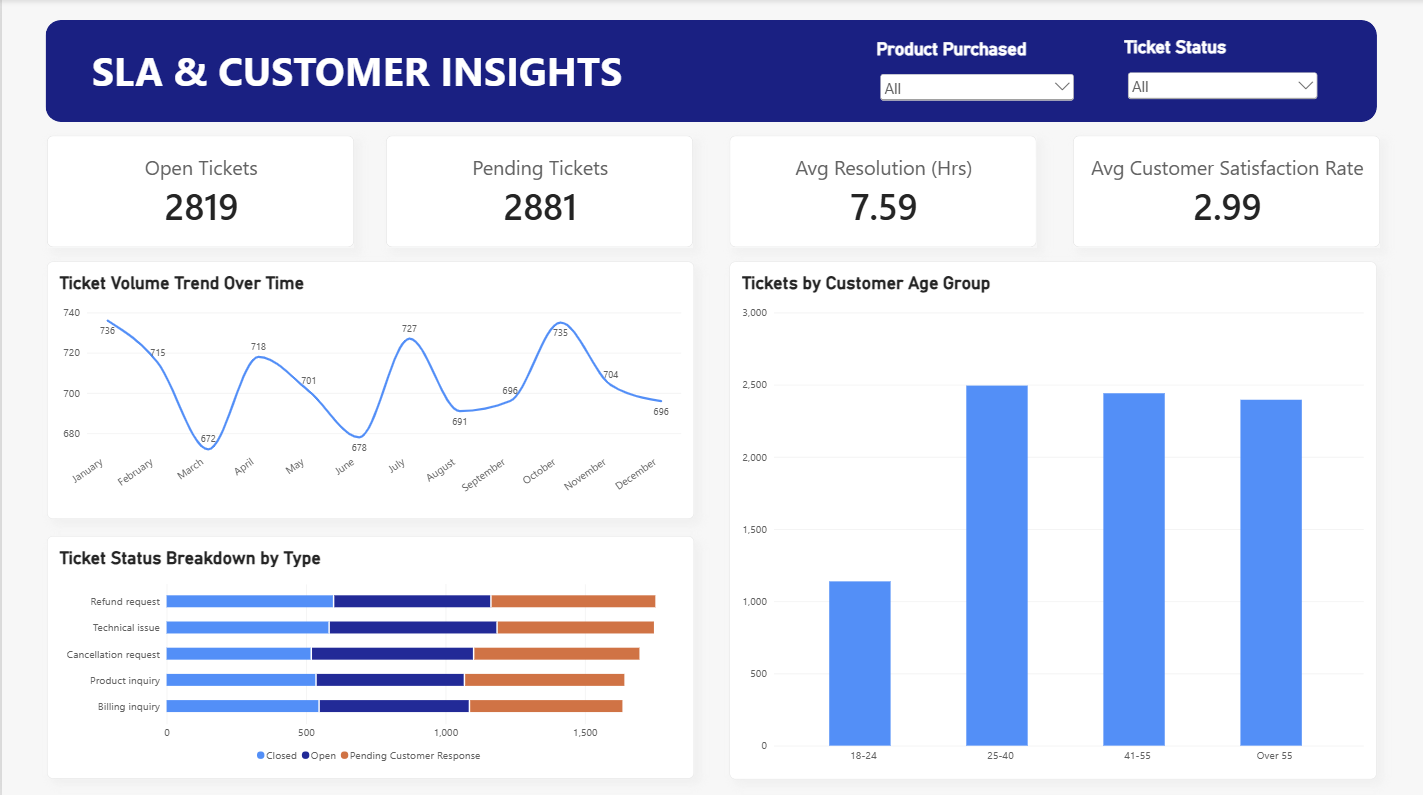

What the dashboard file says about the page in this screenshot:
{"tool":"powerbi","page":{"name":"SLA & Customer Insights","canvas":[1920,1080],"ordinal":1},"visuals":[{"type":"group","id":"g1","title":"Group 2","box":[59,28.8,1799.7,137.8],"z":0},{"type":"shape","box":[59,28.8,1799.7,137.8],"z":0,"group":"g1"},{"type":"cardVisual","fields":{"Data":["customer_support_tickets.Open Tickets"]},"box":[61.2,183.7,415,151.7],"z":0,"group":"g2"},{"type":"group","id":"g2","title":"Group 1","box":[61.2,183.7,1801.9,150.9],"z":1},{"type":"lineChart","title":"Ticket Volume Trend Over Time","fields":{"Category":["customer_support_tickets.Date of Purchase.Variation.Date Hierarchy.Month"],"Y":["customer_support_tickets.Total Tickets"]},"box":[61.2,354.3,874.7,347.7],"z":2,"group":"g3"},{"type":"barChart","title":"Ticket Status Breakdown by Type","fields":{"Category":["customer_support_tickets.Ticket Type"],"Series":["customer_support_tickets.Ticket Status"],"Y":["customer_support_tickets.Total Tickets"]},"box":[61.2,726.1,874.7,328],"z":3,"group":"g3"},{"type":"clusteredColumnChart","title":"Tickets by Customer Age Group","fields":{"Category":["customer_support_tickets.Age Groups"],"Y":["customer_support_tickets.Total Tickets"]},"box":[984,354.3,874.7,699.8],"z":4,"group":"g3"},{"type":"group","id":"g3","title":"Group 3","box":[61.2,354.3,1797.5,699.8],"z":5},{"type":"textbox","box":[122.3,62,734.8,87.5],"z":1000,"group":"g1"},{"type":"slicer","title":"Product Purchased","fields":{"Values":["customer_support_tickets.Product Purchased"]},"box":[1182.7,52.8,271.6,88.9],"z":2000,"group":"g1"},{"type":"slicer","title":"Ticket Status","fields":{"Values":["customer_support_tickets.Ticket Status"]},"box":[1516.8,50.2,266.1,91.1],"z":3000,"group":"g1"},{"type":"cardVisual","fields":{"Data":["customer_support_tickets.Pending Tickets"]},"box":[520.4,183.7,415,151.7],"z":4000,"group":"g2"},{"type":"cardVisual","fields":{"Data":["customer_support_tickets.Avg Resolution (Hrs)"]},"box":[984,183.7,415,151.7],"z":5000,"group":"g2"},{"type":"cardVisual","fields":{"Data":["Avg(customer_support_tickets.Customer Satisfaction Rating)"]},"box":[1447.6,183.7,415,151.7],"z":6000,"group":"g2"}]}

Visuals, with their boxes in screenshot pixels (x1, y1, x2, y2), scaled from the page's 1920x1080 canvas onto the 1423x795 screenshot:
"Group 2" group: crop(44, 21, 1378, 123)
shape: crop(44, 21, 1378, 123)
cardVisual - customer_support_tickets.Open Tickets: crop(45, 135, 353, 247)
"Group 1" group: crop(45, 135, 1381, 246)
"Ticket Volume Trend Over Time" lineChart: crop(45, 261, 694, 517)
"Ticket Status Breakdown by Type" barChart: crop(45, 534, 694, 776)
"Tickets by Customer Age Group" clusteredColumnChart: crop(729, 261, 1378, 776)
"Group 3" group: crop(45, 261, 1378, 776)
textbox: crop(91, 46, 635, 110)
"Product Purchased" slicer: crop(877, 39, 1078, 104)
"Ticket Status" slicer: crop(1124, 37, 1321, 104)
cardVisual - customer_support_tickets.Pending Tickets: crop(386, 135, 693, 247)
cardVisual - customer_support_tickets.Avg Resolution (Hrs): crop(729, 135, 1037, 247)
cardVisual - Avg(customer_support_tickets.Customer Satisfaction Rating): crop(1073, 135, 1380, 247)
